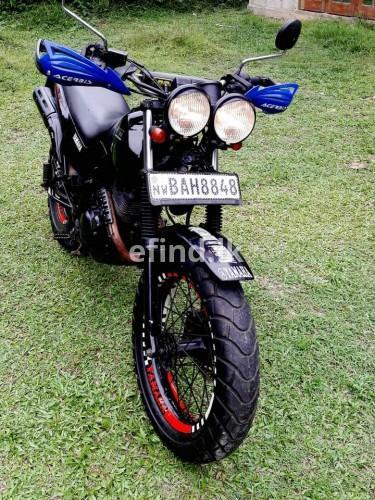motorbike: (33, 17, 303, 463)
